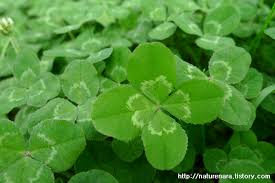4-clover: (92, 43, 225, 171)
